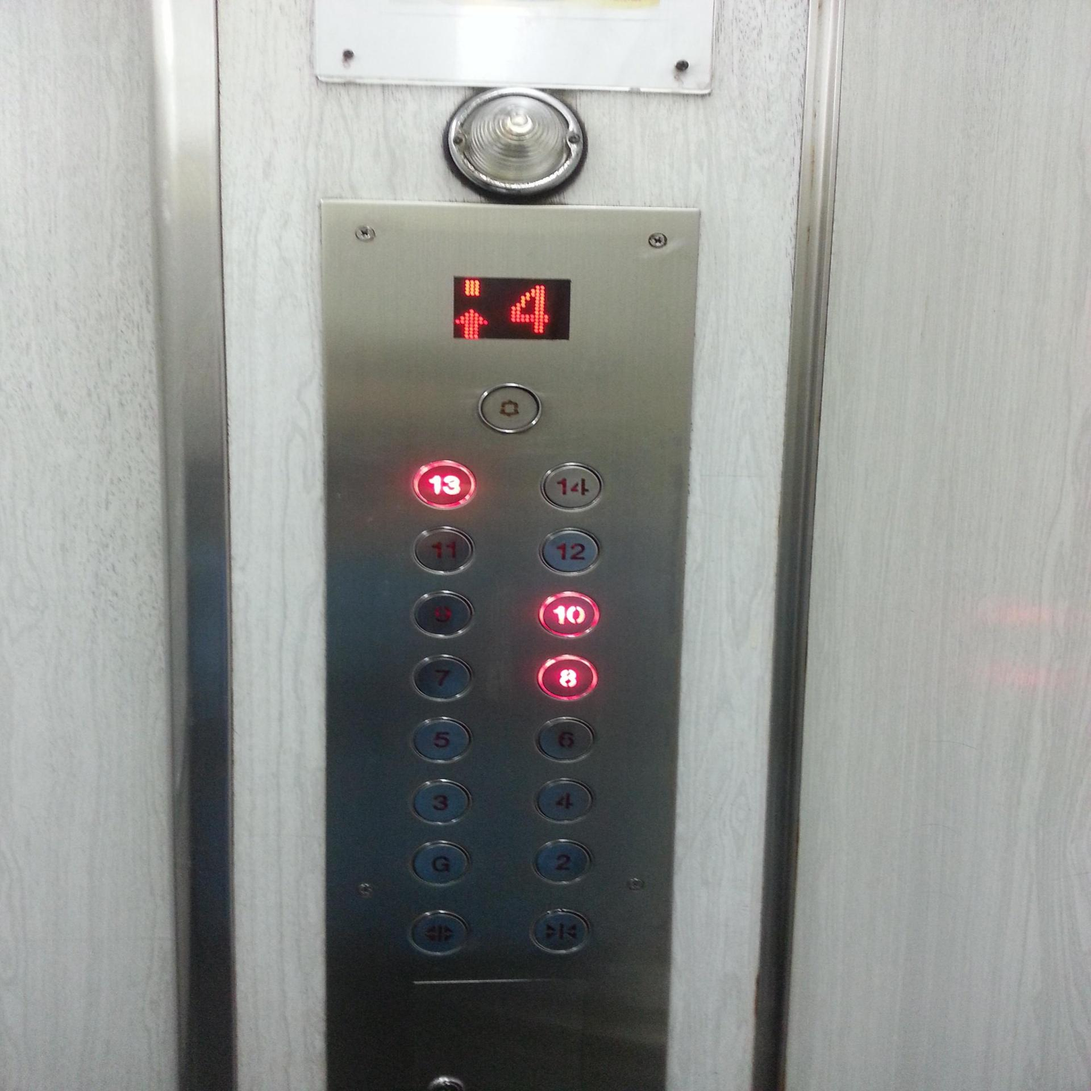10: (537, 591, 599, 638)
11: (411, 525, 476, 574)
12: (539, 526, 602, 574)
13: (412, 460, 475, 509)
14: (540, 461, 604, 510)
2: (531, 839, 593, 884)
3: (410, 779, 471, 825)
4: (534, 777, 593, 823)
5: (410, 716, 472, 763)
6: (535, 717, 597, 763)
7: (410, 652, 473, 701)
8: (536, 653, 597, 700)
9: (411, 590, 473, 639)
G: (410, 840, 472, 887)
alarm: (477, 382, 541, 432)
close: (530, 908, 590, 955)
led: (449, 270, 572, 342)
open: (407, 910, 469, 956)
unknown: (436, 81, 590, 201)
